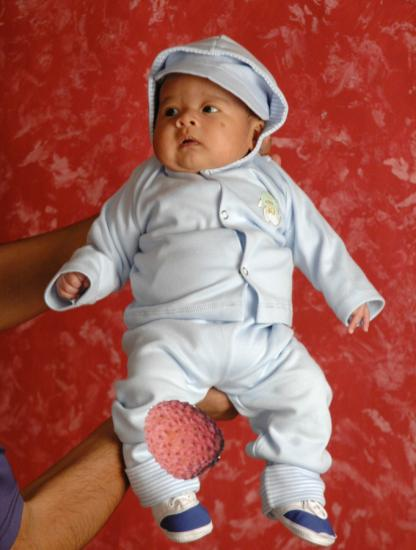Lychee: (138, 395, 225, 482)
